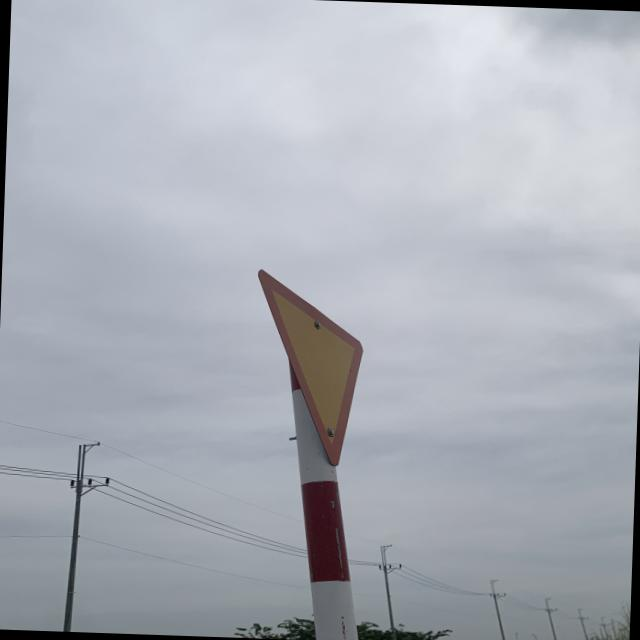Gioi_Han_Toc_Do_25: (249, 269, 366, 467)
